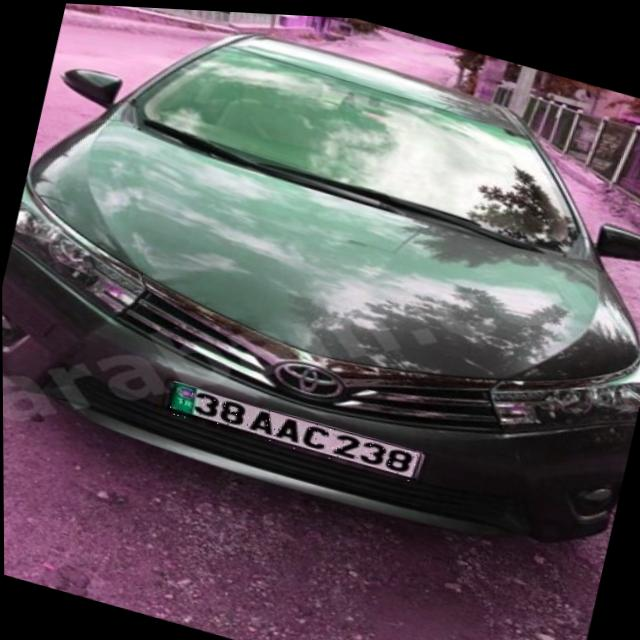license_plate: (164, 380, 422, 479)
